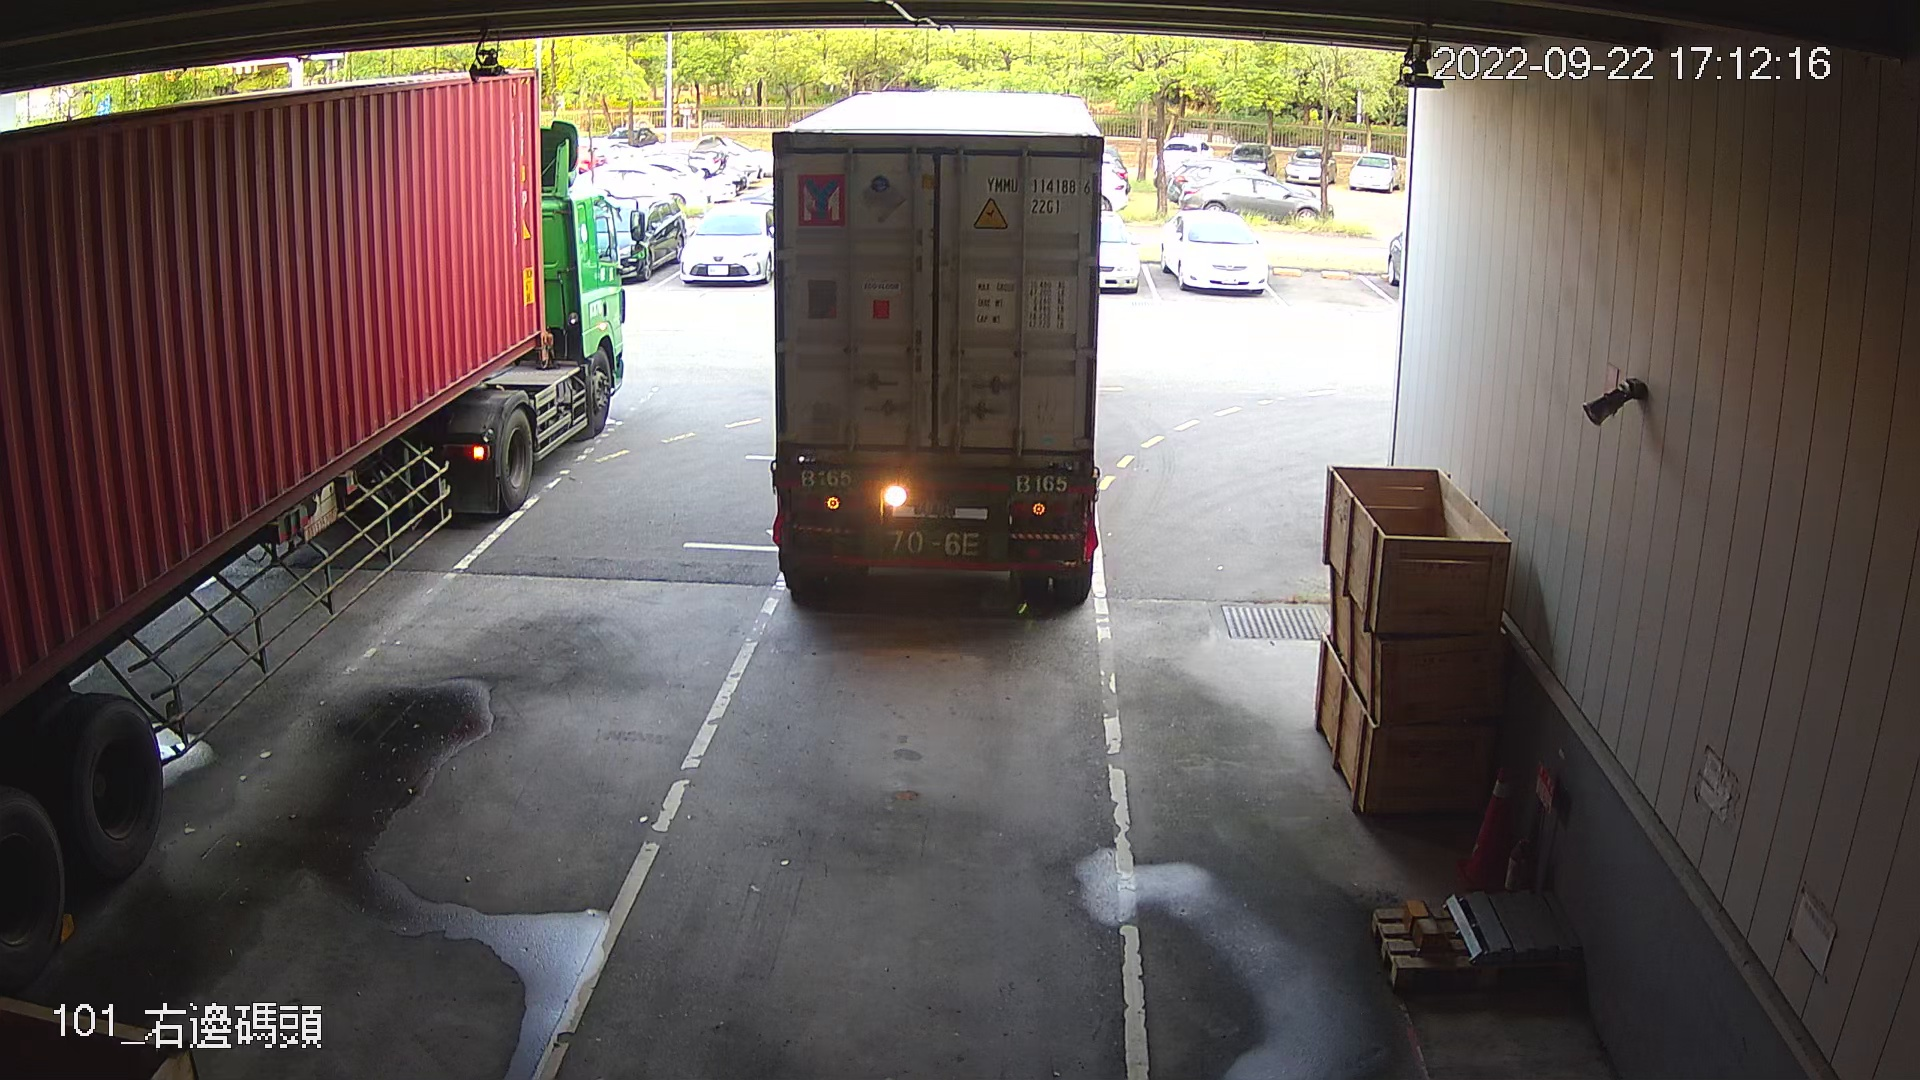container: (975, 169, 1097, 220)
